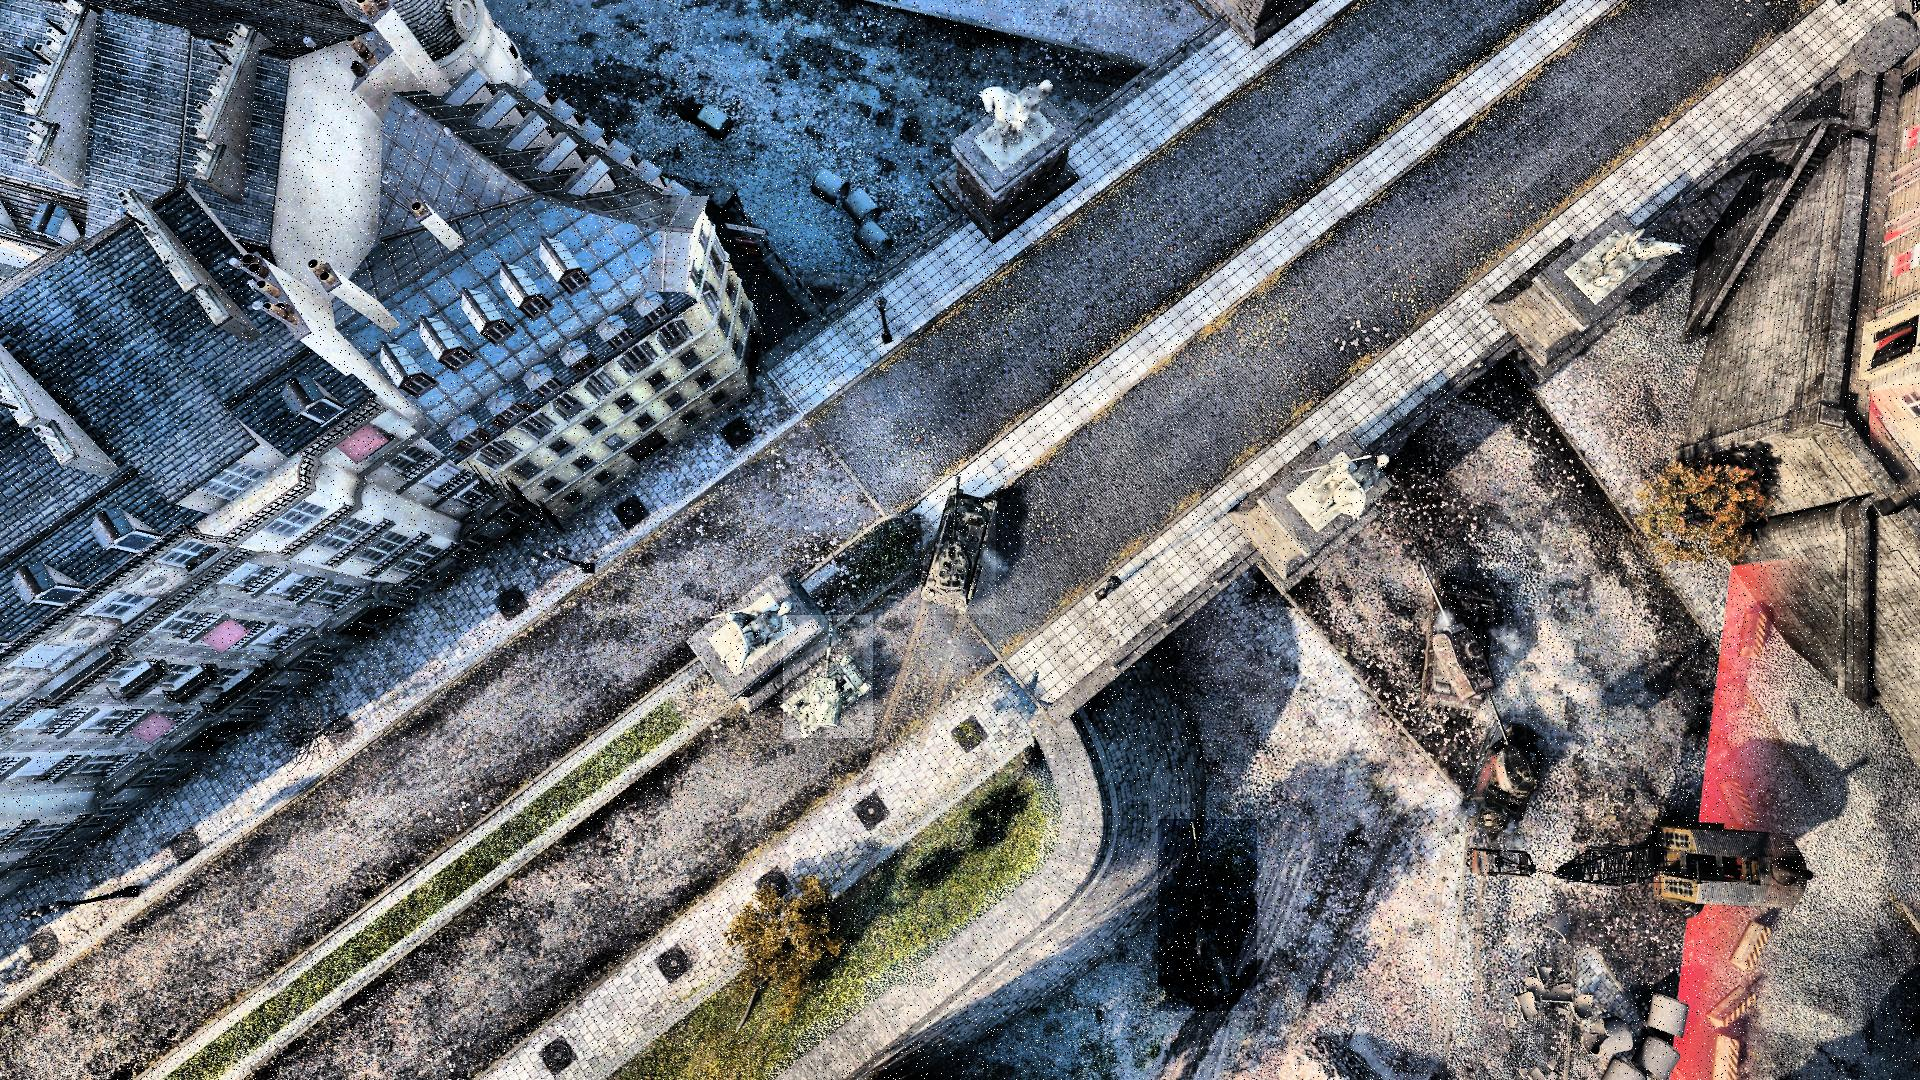military-vehicle: (1158, 820, 1257, 1011), (783, 615, 873, 738), (922, 477, 997, 615)
